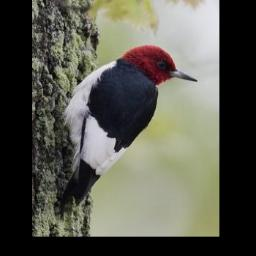Woodpecker: (47, 42, 206, 217)
